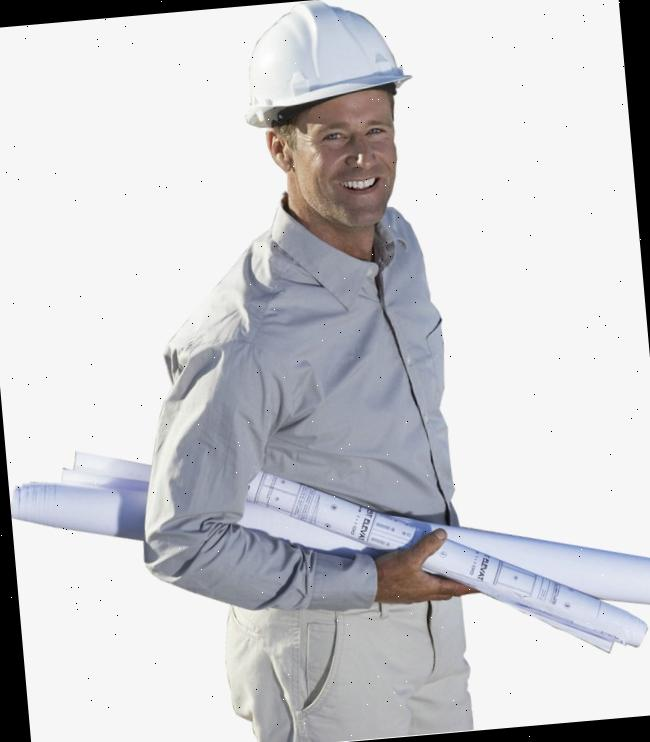helmet: (228, 0, 415, 136)
no_wear: (180, 242, 480, 624)
